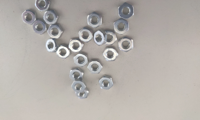nut: (118, 37, 135, 53), (119, 3, 135, 19), (47, 24, 64, 39), (103, 46, 118, 62), (22, 10, 38, 25), (114, 20, 129, 35), (44, 10, 59, 25), (88, 12, 102, 28), (98, 76, 114, 90), (87, 61, 103, 75), (93, 31, 107, 46), (78, 28, 93, 42), (33, 21, 48, 35), (69, 40, 85, 53), (57, 45, 71, 59), (72, 80, 87, 93), (104, 32, 118, 45), (74, 54, 88, 67), (46, 39, 59, 53), (70, 68, 84, 81), (35, 0, 51, 11), (75, 90, 89, 99)
